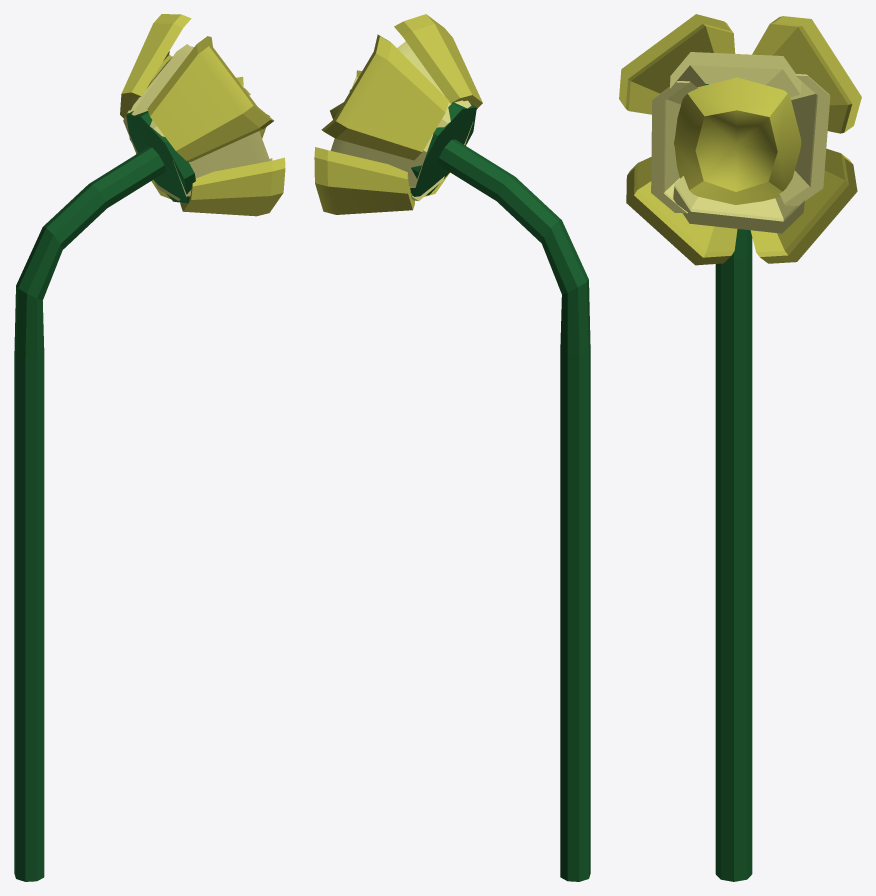
Rendered from TT_Flower_yellow.fbx.
The picture shows the model from 3 angles, left to right: view 1: azimuth 30°, elevation 25°; view 2: azimuth 150°, elevation 25°; view 3: azimuth 270°, elevation 25°; orthographic projection. The views are drawn at different scales.
Visible parts, largest first — view 1: Rose_Yellow; view 2: Rose_Yellow; view 3: Rose_Yellow.
Part boxes in pixels (bbox=[...]): Rose_Yellow: bbox=[14, 14, 285, 881]; Rose_Yellow: bbox=[314, 14, 590, 881]; Rose_Yellow: bbox=[619, 14, 861, 881].
Bounding box in the file's own units: 25.62 × 79.21 × 18.19.
